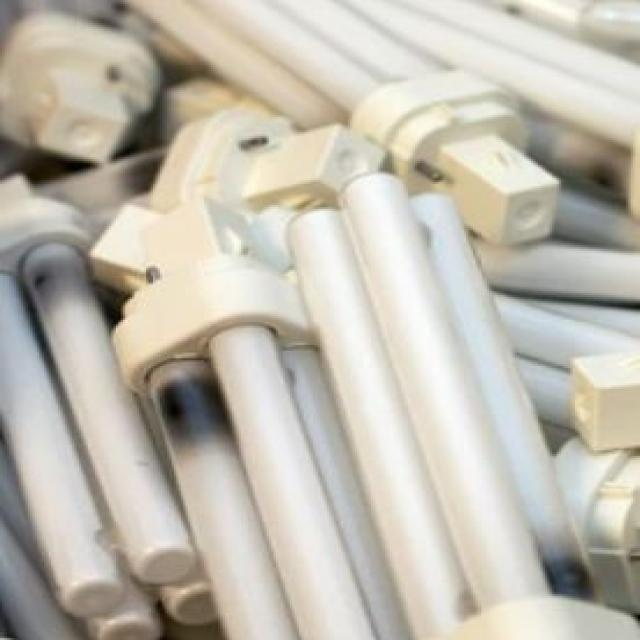electronic: (0, 0, 638, 638), (0, 9, 160, 163), (410, 592, 638, 638)
